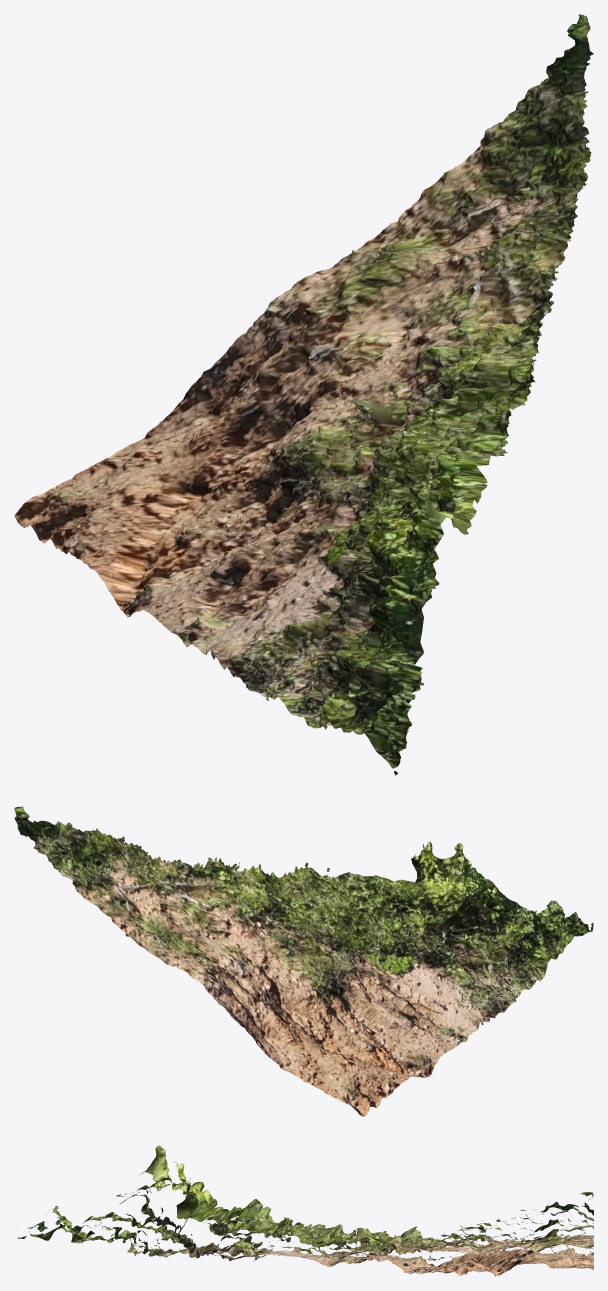
3 renders of one model, top to bottom at view 1: azimuth 30°, elevation 25°; view 2: azimuth 150°, elevation 25°; view 3: azimuth 270°, elevation 25°, orthographic. The views are drawn at different scales.
Size of the model in its own units: 6.54 by 4.19 by 7.59.
2 materials, 2 textured.
